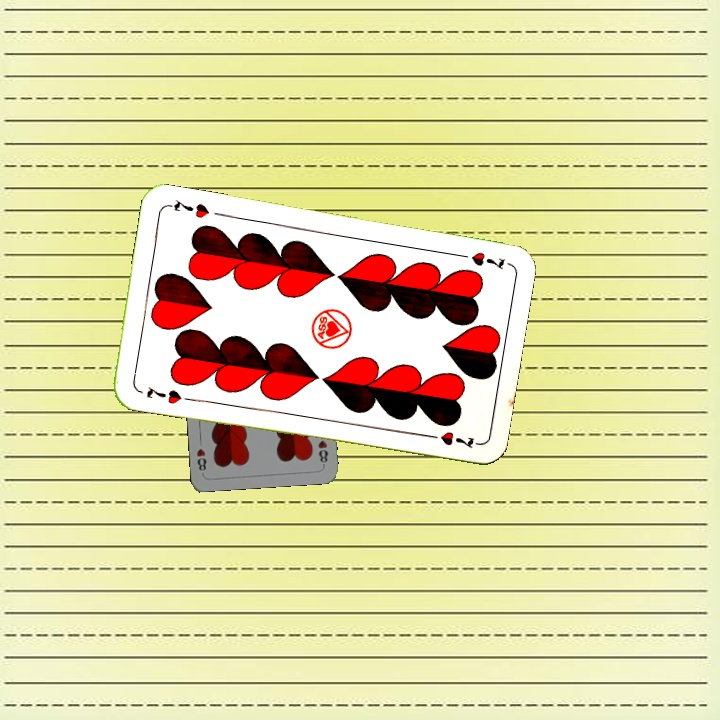H7: (451, 247, 510, 273), (142, 382, 184, 407)
H8: (314, 436, 330, 467)
